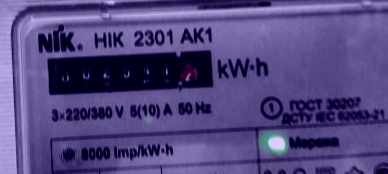0: (59, 63, 72, 84), (79, 60, 92, 81)
1: (160, 55, 172, 78)
2: (99, 58, 114, 81)
4: (140, 56, 152, 77)
5: (119, 57, 133, 81)
6: (183, 70, 194, 82)
screen: (35, 41, 226, 102)
